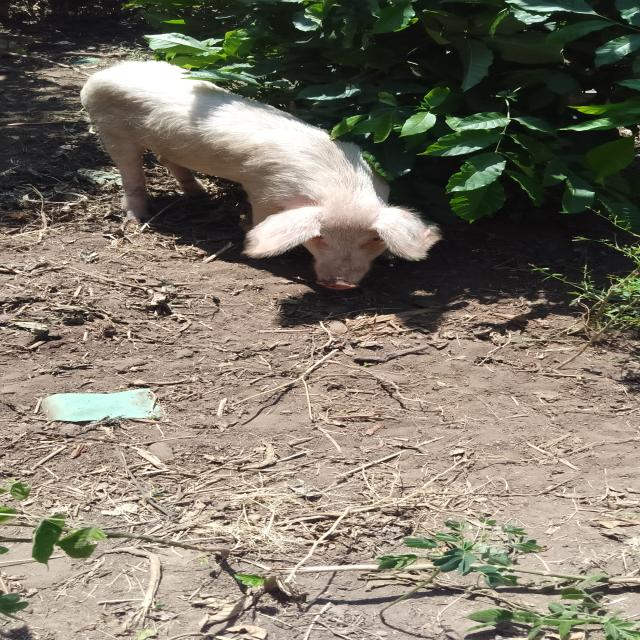pig: (42, 46, 539, 341)
